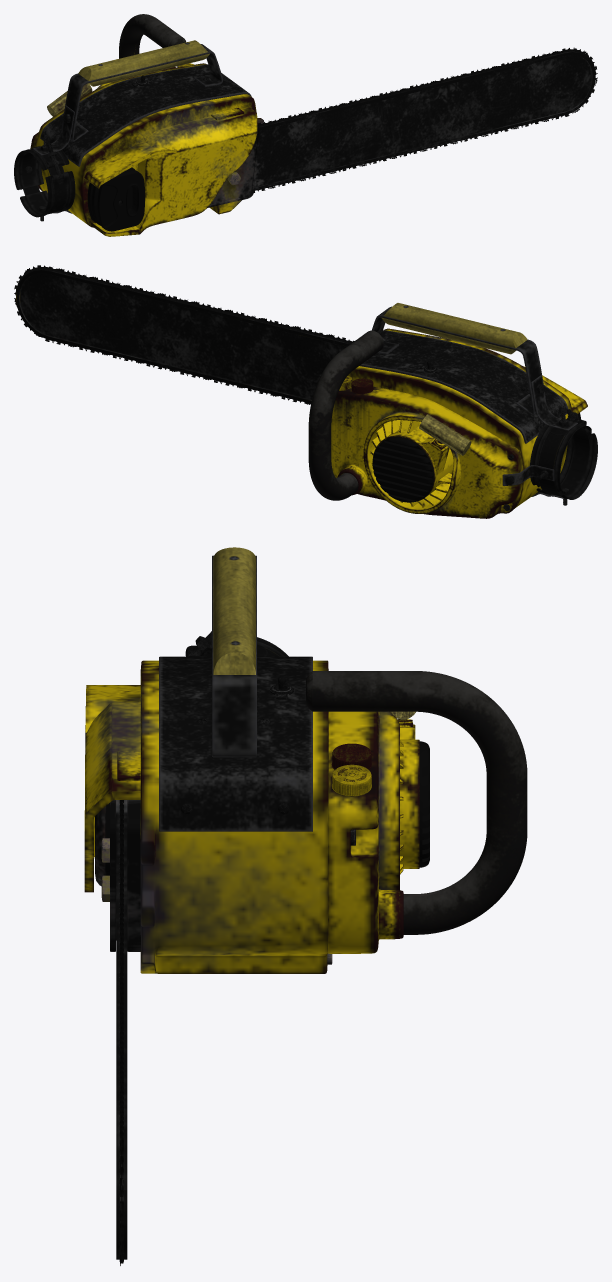
The model's file is chainsaw.glb.
3 views of the same model, one above another, from view 1: azimuth 30°, elevation 25°; view 2: azimuth 150°, elevation 25°; view 3: azimuth 270°, elevation 25° (orthographic). The views are drawn at different scales.
Parts seen in each view (by area): view 1: Object_20, Object_6, Object_21, Object_5, Object_19, Object_10, Object_11, Object_16, Object_9, Object_14, Object_18; view 2: Object_20, Object_6, Object_21, Object_10, Object_5, Object_16, Object_9, Object_14, Object_17, Object_18; view 3: Object_20, Object_10, Object_21, Object_6, Object_11, Object_17, Object_14, Object_12.
Part boxes in pixels (x1,y1,x2,y2): Object_20: (14, 40, 258, 236); Object_6: (44, 48, 597, 203); Object_21: (30, 78, 263, 235); Object_5: (128, 48, 597, 214); Object_19: (87, 167, 144, 231); Object_10: (119, 14, 185, 58); Object_11: (207, 126, 260, 207); Object_16: (253, 48, 596, 192); Object_9: (47, 83, 92, 116); Object_14: (257, 48, 596, 188); Object_18: (25, 77, 237, 220); Object_20: (331, 303, 597, 517); Object_6: (14, 266, 570, 478); Object_21: (331, 328, 587, 518); Object_10: (308, 330, 434, 502); Object_5: (14, 266, 441, 501); Object_16: (15, 266, 354, 403); Object_9: (419, 414, 471, 455); Object_14: (15, 265, 352, 404); Object_17: (339, 376, 373, 393); Object_18: (382, 344, 578, 510); Object_20: (84, 547, 419, 973); Object_10: (306, 671, 527, 934); Object_21: (85, 660, 403, 973); Object_6: (116, 641, 371, 1265); Object_11: (110, 800, 140, 951); Object_17: (332, 743, 371, 795); Object_14: (120, 800, 123, 1263); Object_12: (95, 676, 293, 886).
Size of the model in its own units: 1.6 by 0.443 by 0.5703.
2 materials, 2 textured.
